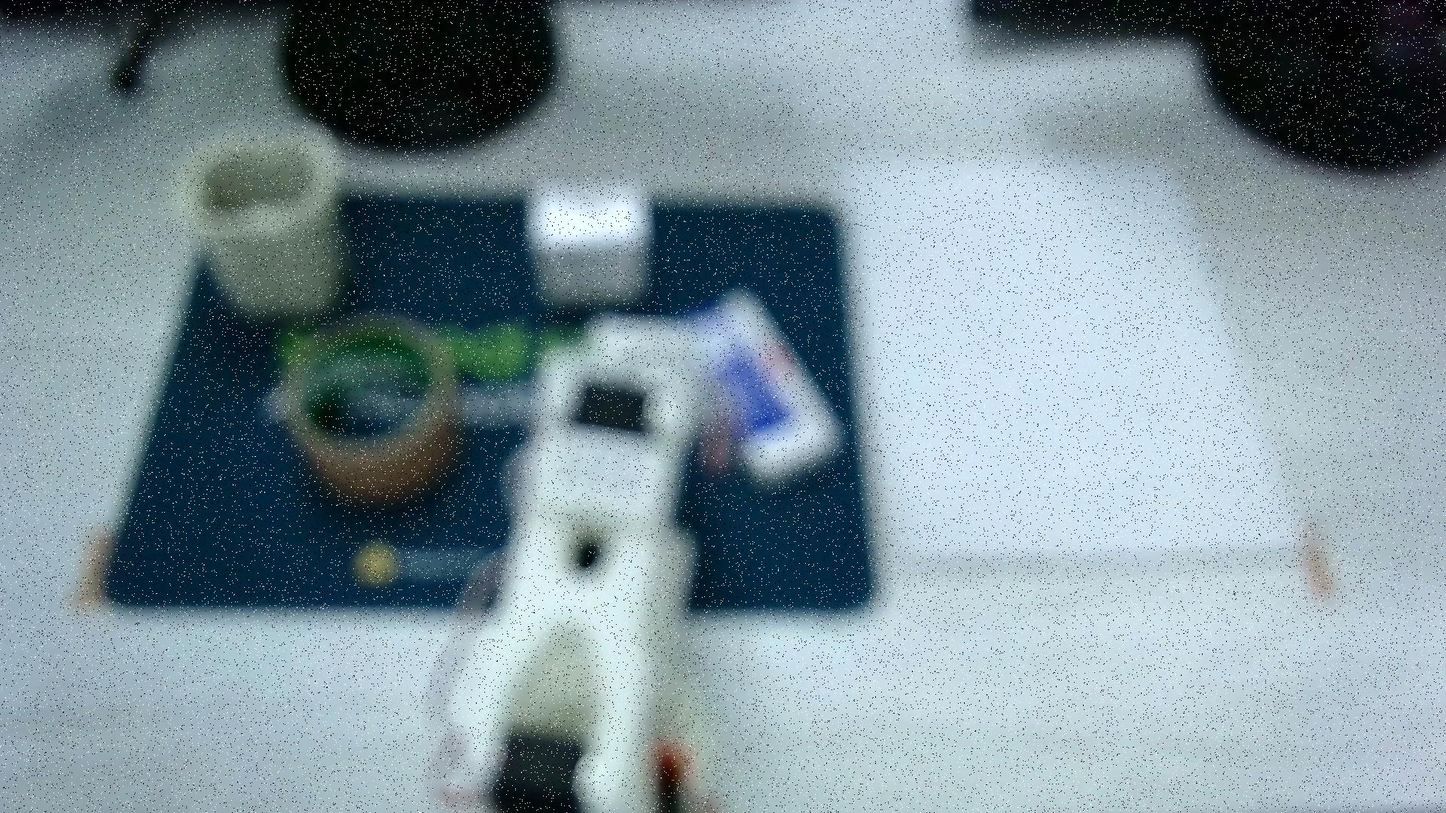eraser: (526, 180, 652, 309)
